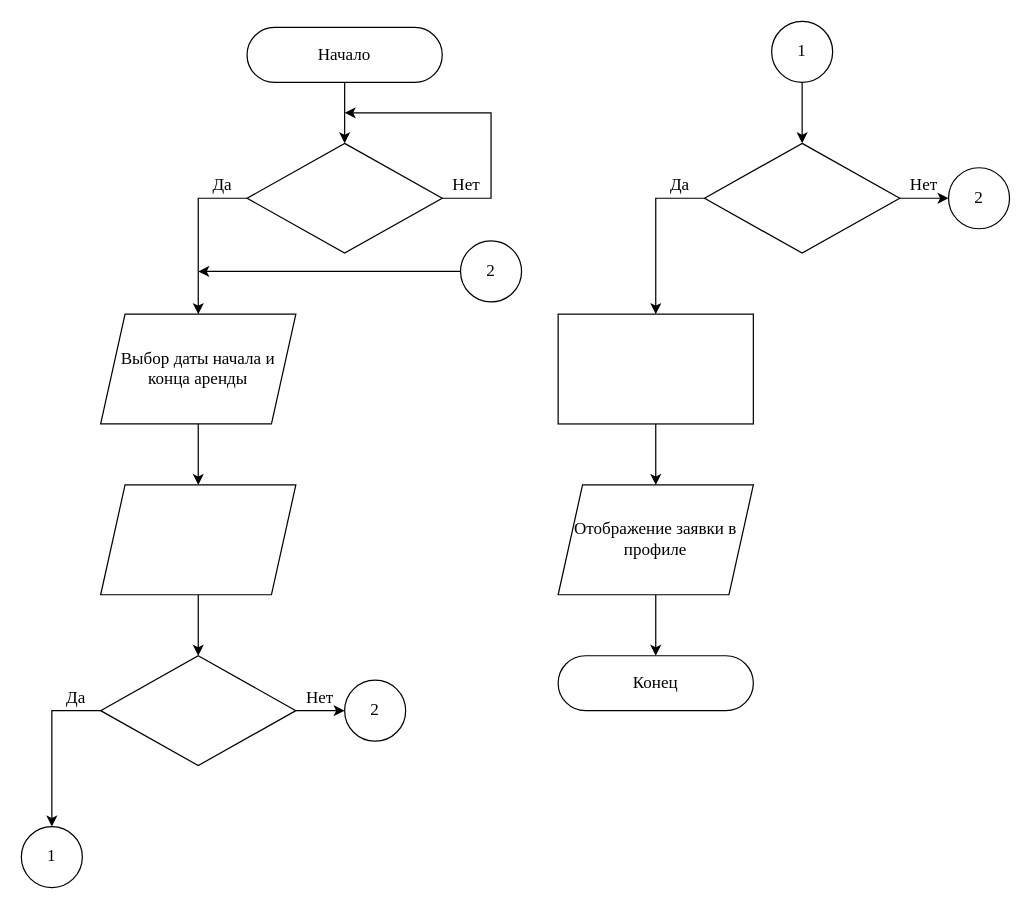
Image size: 1031x909. Some labels were removed from this diagram. Each missing label, with the centre of its shape:
"Введенные данные корректны?" belongs at pixel 801 197.
"Есть ли интернет-соединение?" belongs at pixel 344 197.
"Заполнение всех полей" belongs at pixel 197 539.
"Оборудование доступно?" belongs at pixel 197 710.
"Оформление заявки завершено" belongs at pixel 655 368.
